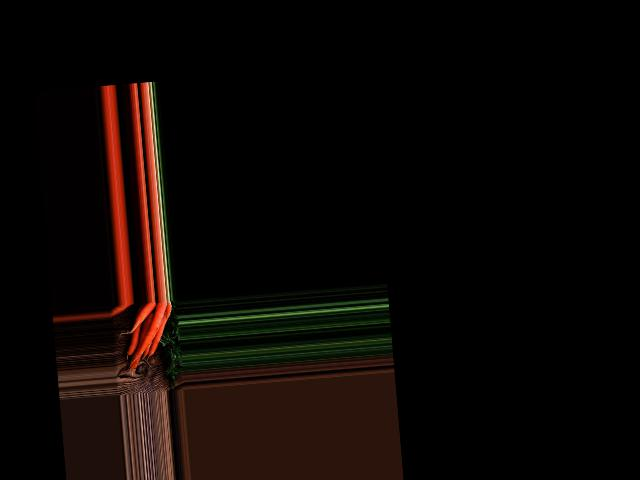carrot: (128, 303, 156, 332)
